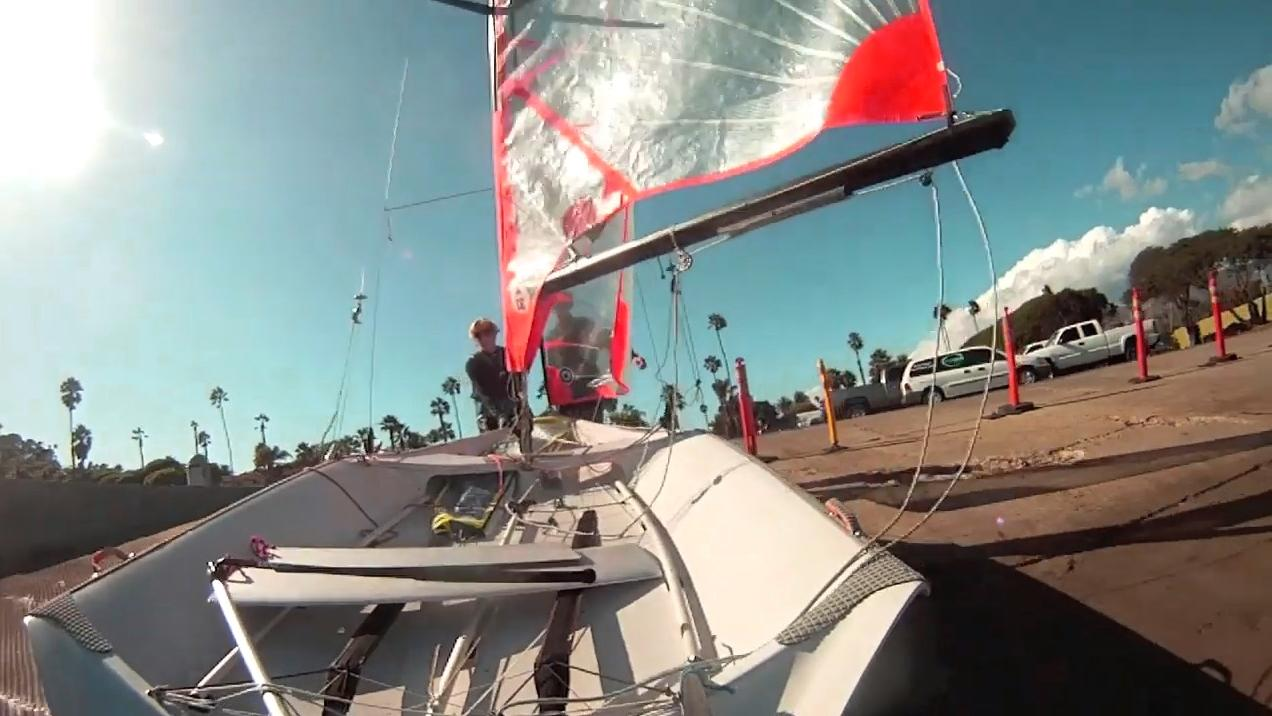boat: (22, 0, 1016, 716)
land: (735, 225, 1272, 716), (0, 435, 330, 716)
person: (544, 293, 630, 423), (464, 320, 530, 434)
sky: (611, 0, 1272, 432), (0, 0, 502, 471)
